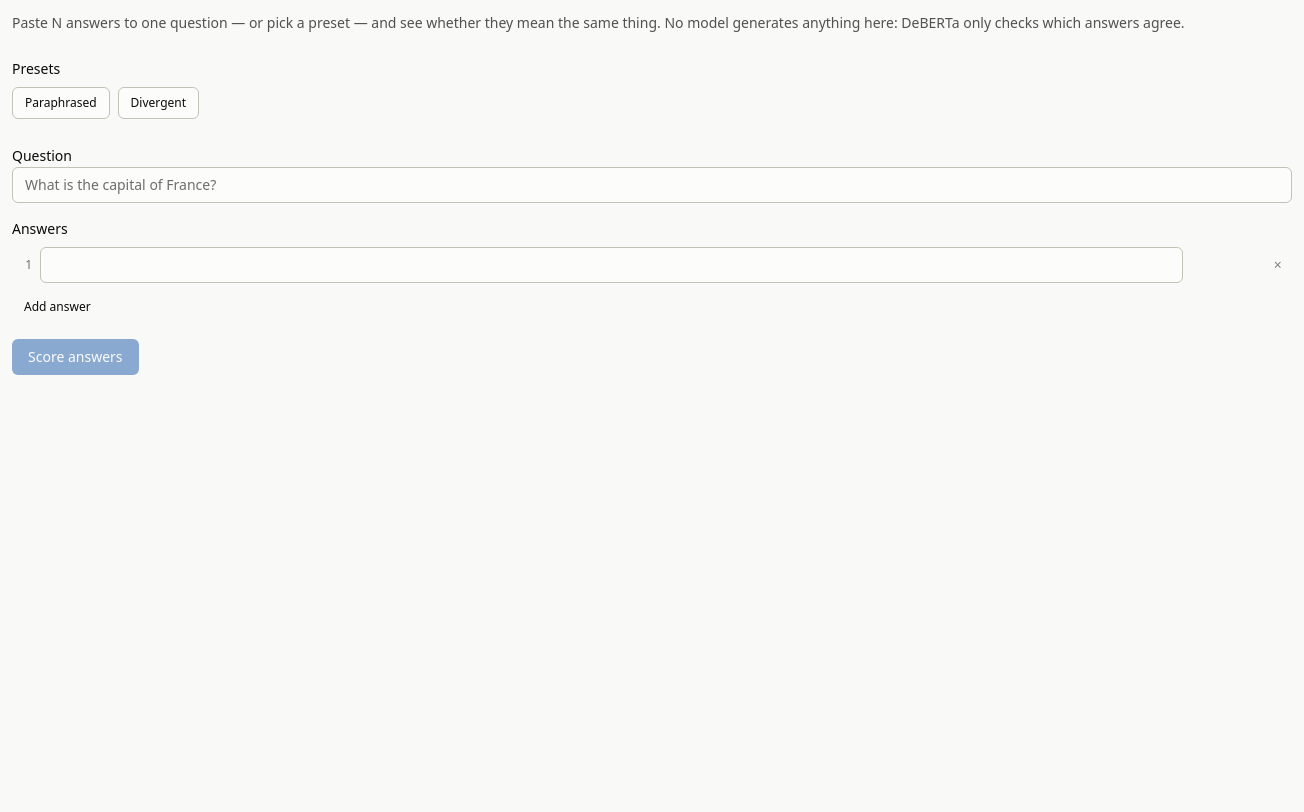
Test: ScoreTab › loads a preset into the question and answer fields
Click the button "divergent". click: click(158, 103)
box: x1=118 y1=87 x2=199 y2=119
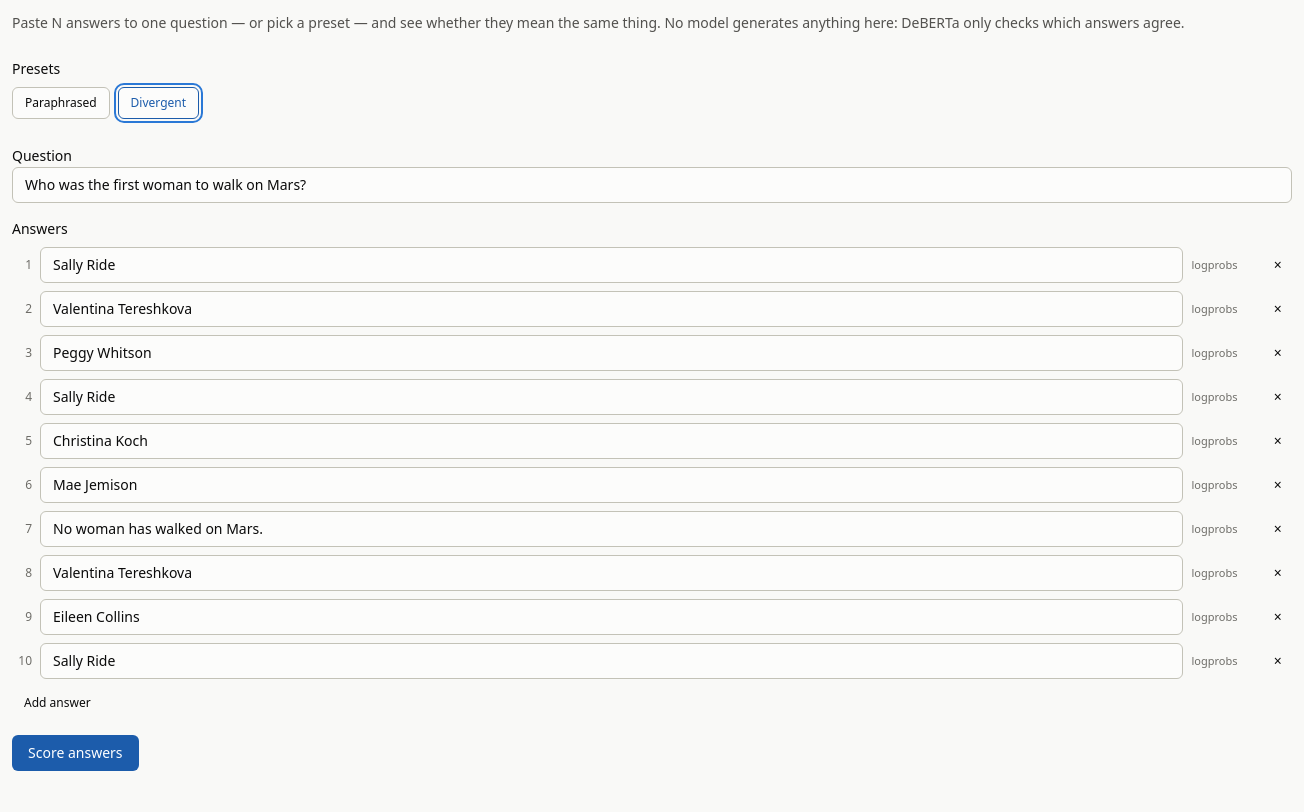
expect the field labelled "Question" holds "Who was the first woman to walk on Mars?": met, box x1=12 y1=167 x2=1292 y2=203
expect the number of fields named "Answer 1" is 10: met
expect the field named "Answer 7" holds "No woman has walked on Mars.": met, box x1=40 y1=511 x2=1184 y2=547
